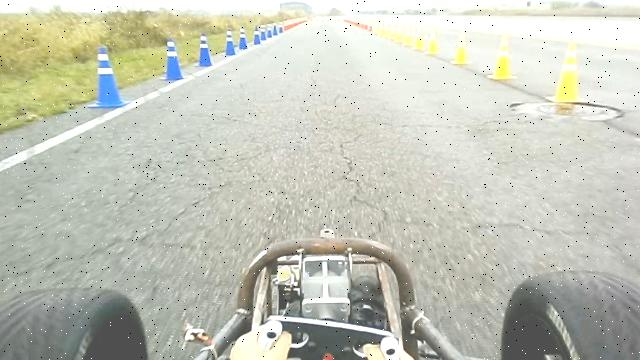blue cone: (86, 45, 130, 109), (159, 37, 185, 80), (195, 33, 213, 67), (223, 30, 237, 56), (238, 27, 248, 50), (252, 25, 262, 45)
yellow cone: (545, 42, 588, 104), (487, 34, 516, 81), (450, 30, 471, 64), (425, 26, 439, 55), (412, 26, 425, 50), (402, 24, 413, 46)
